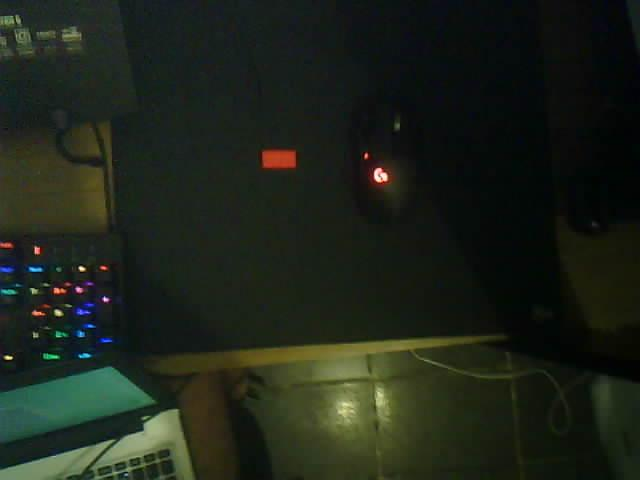lego: (259, 147, 298, 171)
